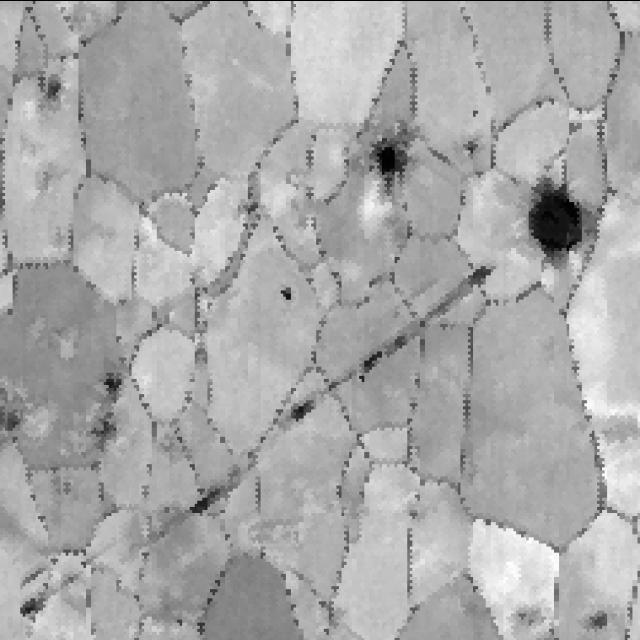good_void: (528, 178, 591, 269), (346, 325, 407, 384), (363, 138, 411, 193), (10, 580, 50, 628), (189, 474, 231, 515), (286, 389, 322, 432), (582, 599, 613, 639), (466, 247, 502, 281), (93, 409, 124, 443), (236, 183, 261, 219), (39, 64, 65, 98), (513, 603, 548, 628), (100, 366, 124, 400), (280, 277, 295, 309), (462, 135, 482, 154), (469, 96, 482, 116)
